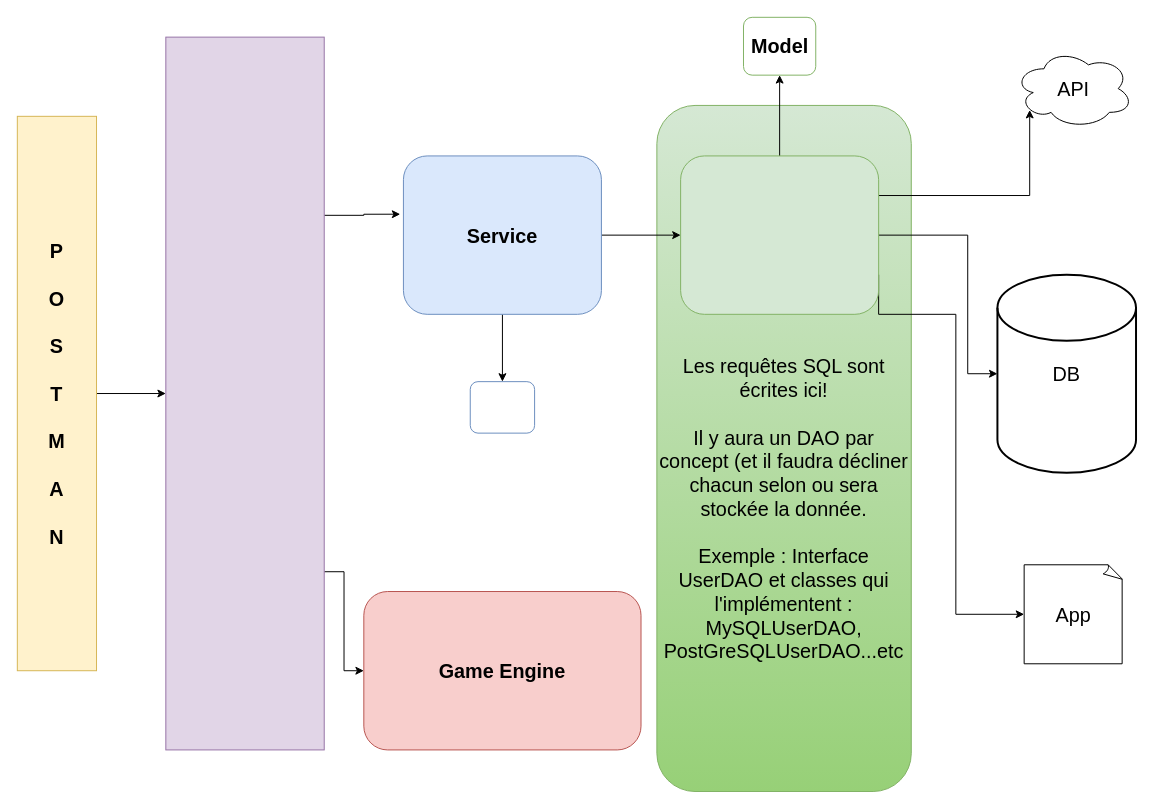
This 1154x809 diagram has some shape labels left out. Here are the shapes that lost their labels. From the top down, the centre of each, then its label:
pixel 779 234: DAO
pixel 244 393: C O N T R O L L E R
pixel 502 407: DTO
